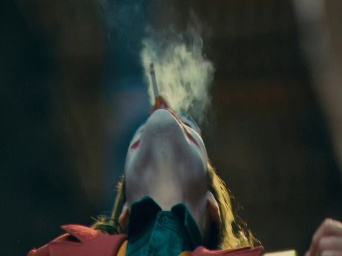smoke: (148, 63, 159, 109)
